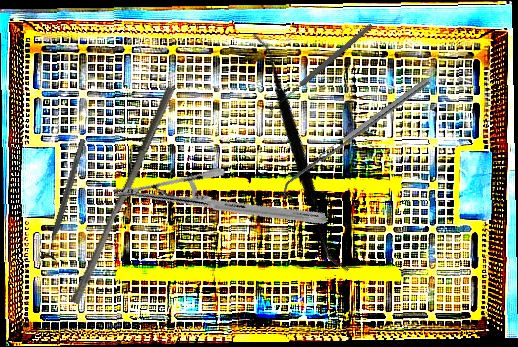Fixation Ring: (39, 136, 93, 264)
Needle Holder: (112, 118, 328, 293)
Pusher: (69, 82, 176, 309)
Spatula Surgical: (173, 31, 428, 274), (275, 77, 435, 199)
Surgical Spoon: (268, 22, 374, 113)
